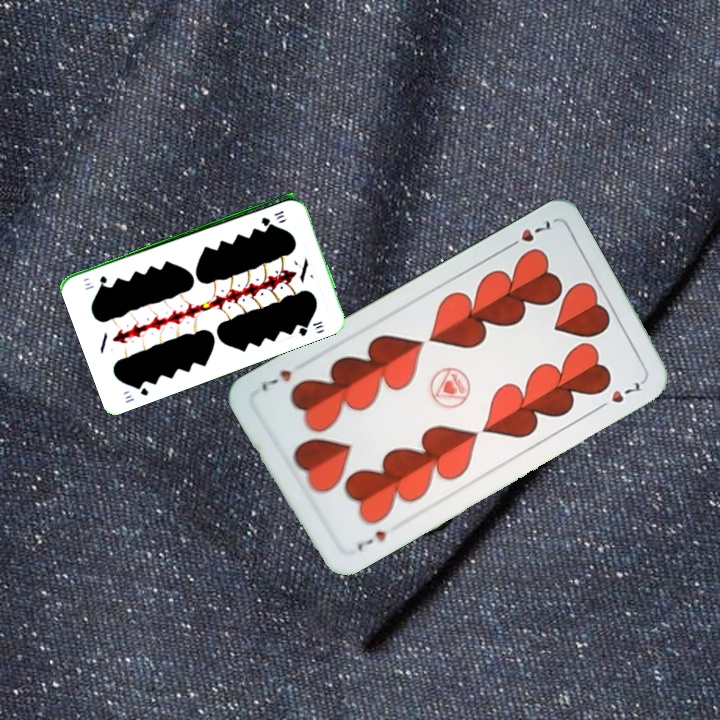G10: (121, 379, 151, 406), (257, 206, 287, 227)
H7: (501, 217, 554, 252), (353, 526, 389, 554)
